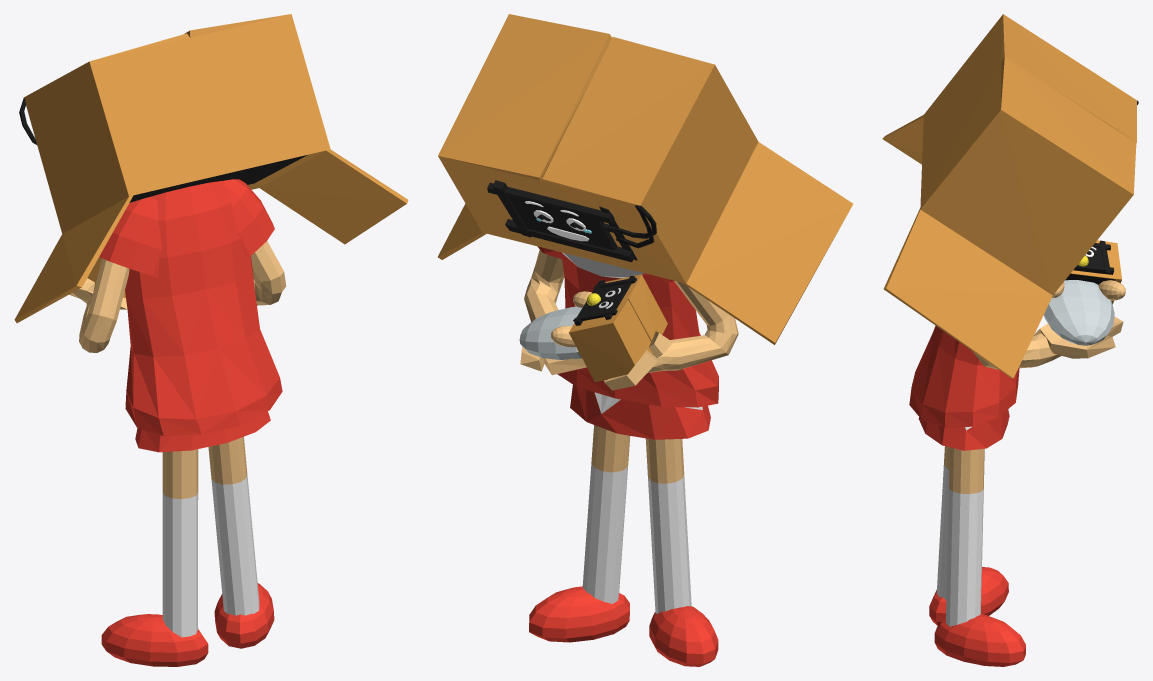
File: hako-chan2-by-sugamo-cs4izuWtAyp.glb
3 views of the same model, side by side, from view 1: azimuth 30°, elevation 25°; view 2: azimuth 150°, elevation 25°; view 3: azimuth 270°, elevation 25° (orthographic). The views are drawn at different scales.
Visible parts, largest first — view 1: group1212806658, group1640282566, group640946054, group1412341922, group762858879, group1505951886, group779514097, group1473738686, group1409439463, group453566098, group854071397, group82174315 (+2 smaller); view 2: group1212806658, group779514097, group762858879, group1505951886, group1640282566, group1662330656, group119378517, group82174315, group453566098, group1473738686, group1630291389, group2080028639 (+8 smaller); view 3: group1212806658, group1412341922, group1640282566, group1505951886, group82174315, group1630291389, group119378517, group1473738686, group226359150, group762858879, group779514097, group1379550082 (+2 smaller).
Boxes of the visible parts, x1,y1,x2,y2 form: group1212806658: (24,14,330,233); group1640282566: (125,270,282,436); group640946054: (125,180,252,299); group1412341922: (260,149,408,244); group762858879: (162,449,198,637); group1505951886: (208,436,259,615); group779514097: (14,195,133,323); group1473738686: (101,614,208,666); group1409439463: (99,197,161,277); group453566098: (79,258,129,352); group854071397: (224,179,274,259); group82174315: (214,583,274,648); group1212806658: (438,14,758,283); group779514097: (682,142,852,344); group762858879: (645,438,691,613); group1505951886: (582,425,630,603); group1640282566: (557,276,718,407); group1662330656: (568,274,667,382); group119378517: (570,384,710,439); group82174315: (529,586,629,642); group453566098: (647,281,738,372); group1473738686: (649,606,718,666); group1630291389: (519,306,582,359); group2080028639: (510,198,617,250); group1212806658: (920,14,1136,295); group1412341922: (883,208,1052,378); group1640282566: (909,325,1019,427); group1505951886: (946,447,984,626); group82174315: (934,614,1025,666); group1630291389: (1043,280,1114,345); group119378517: (918,408,1009,450); group1473738686: (929,567,1008,625); group226359150: (1033,316,1123,358); group762858879: (936,446,949,599); group779514097: (882,115,923,164); group1379550082: (972,333,1061,369).
Size of the model in its own units: 0.7435 by 1.26 by 0.5055.
